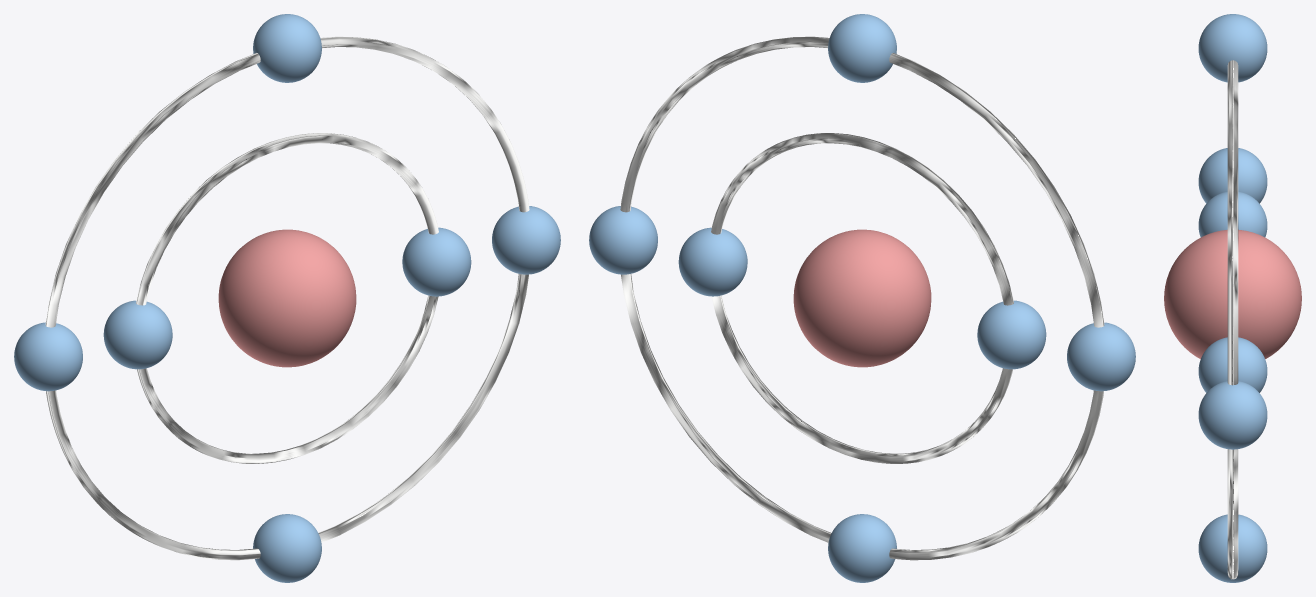
The model's file is asset.gltf.
The picture shows the model from 3 angles, left to right: view 1: azimuth 30°, elevation 25°; view 2: azimuth 150°, elevation 25°; view 3: azimuth 270°, elevation 25°; orthographic projection.
Visible parts, largest first — view 1: Body1.002, Body2, Body1, Body1.001, Body2.001, Body6, Body3, Body4, Body5; view 2: Body1.002, Body2, Body1, Body1.001, Body2.001, Body3, Body6, Body4, Body5; view 3: Body1.002, Body2, Body4, Body6, Body5, Body2.001, Body3, Body1.001.
Boxes of the visible parts, left/top/right/bottom form: Body1.002: left=218, top=229, right=356, bottom=367; Body2: left=45, top=36, right=529, bottom=560; Body1: left=136, top=133, right=438, bottom=463; Body1.001: left=103, top=300, right=172, bottom=369; Body2.001: left=14, top=322, right=82, bottom=391; Body6: left=253, top=14, right=321, bottom=82; Body3: left=402, top=227, right=471, bottom=296; Body4: left=492, top=206, right=560, bottom=274; Body5: left=253, top=514, right=321, bottom=582; Body1.002: left=793, top=229, right=931, bottom=367; Body2: left=620, top=36, right=1104, bottom=560; Body1: left=711, top=133, right=1013, bottom=463; Body1.001: left=977, top=300, right=1046, bottom=369; Body2.001: left=1067, top=322, right=1135, bottom=391; Body3: left=678, top=227, right=747, bottom=296; Body6: left=828, top=14, right=896, bottom=82; Body4: left=589, top=206, right=657, bottom=274; Body5: left=828, top=514, right=896, bottom=582; Body1.002: left=1164, top=229, right=1301, bottom=358; Body2: left=1227, top=60, right=1238, bottom=579; Body4: left=1198, top=381, right=1267, bottom=449; Body6: left=1198, top=14, right=1267, bottom=82; Body5: left=1198, top=514, right=1267, bottom=582; Body2.001: left=1198, top=148, right=1267, bottom=203; Body3: left=1198, top=337, right=1267, bottom=392; Body1.001: left=1198, top=191, right=1267, bottom=237.
Size of the model in its own units: 0.18 by 0.18 by 0.04.
